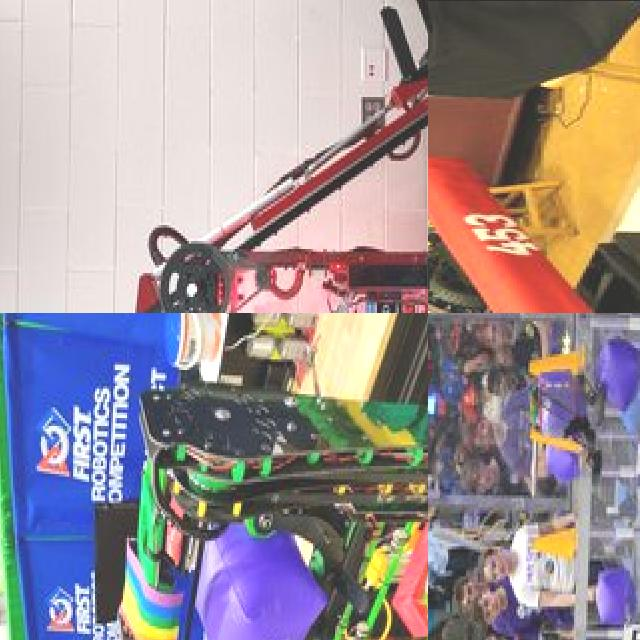FRC-Robots: (41, 313, 428, 640), (85, 0, 428, 313), (428, 111, 640, 313), (428, 438, 640, 640)
